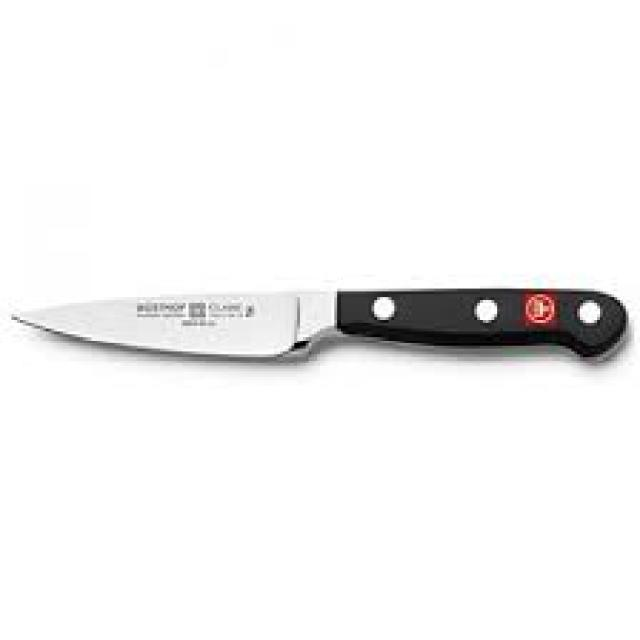Knife: (9, 286, 628, 360)
